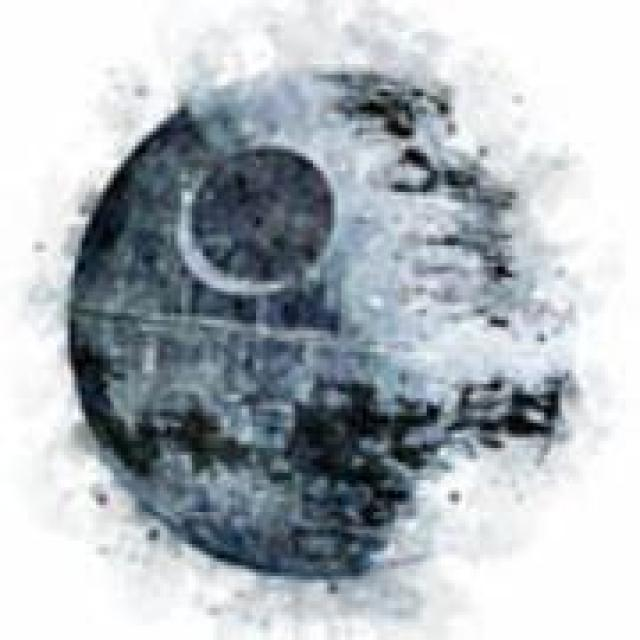deathStar: (67, 71, 588, 586)
